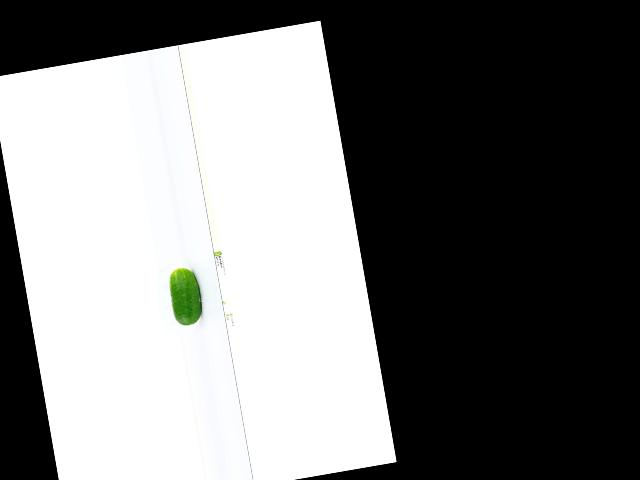cucumber: (167, 266, 205, 327)
